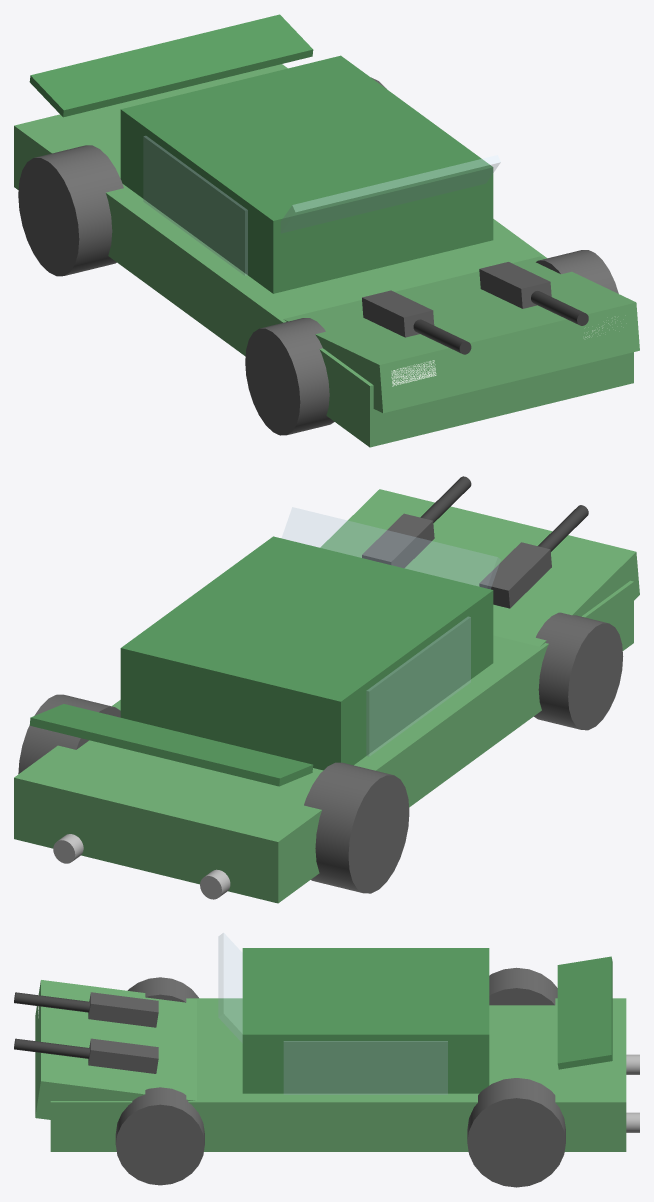
The model's file is WastelandRaiderMax.glb.
The picture shows the model from 3 angles, top to bottom: view 1: azimuth 30°, elevation 25°; view 2: azimuth 150°, elevation 25°; view 3: azimuth 270°, elevation 25°; orthographic projection. The views are drawn at different scales.
Parts seen in each view (by area): view 1: mesh_cabin_structure, mesh_chassis_core, mesh_hood_sloped, mesh_spoiler_base, mesh_wheel_rear_right, mesh_wheel_front_right, mesh_side_window_r, mesh_windshield, mesh_gun_mount_r, mesh_gun_mount_l, mesh_wheel_front_left, mesh_gun_barrel_r (+2 smaller); view 2: mesh_cabin_structure, mesh_chassis_core, mesh_hood_sloped, mesh_wheel_rear_right, mesh_wheel_front_right, mesh_spoiler_base, mesh_side_window_r, mesh_windshield, mesh_gun_mount_r, mesh_gun_mount_l, mesh_wheel_rear_left, mesh_gun_barrel_l (+3 smaller); view 3: mesh_cabin_structure, mesh_chassis_core, mesh_hood_sloped, mesh_side_window_l, mesh_wheel_rear_left, mesh_wheel_front_left, mesh_spoiler_base, mesh_wheel_rear_right, mesh_windshield, mesh_gun_mount_r, mesh_gun_mount_l, mesh_wheel_front_right (+2 smaller).
Part boxes in pixels (<box>): mesh_cabin_structure: <box>120,55,493,293</box>; mesh_chassis_core: <box>14,64,633,447</box>; mesh_hood_sloped: <box>283,256,639,413</box>; mesh_spoiler_base: <box>29,14,313,117</box>; mesh_wheel_rear_right: <box>18,145,123,276</box>; mesh_wheel_front_right: <box>245,318,334,435</box>; mesh_side_window_r: <box>143,136,247,275</box>; mesh_windshield: <box>281,155,500,233</box>; mesh_gun_mount_r: <box>362,290,434,337</box>; mesh_gun_mount_l: <box>479,262,551,308</box>; mesh_wheel_front_left: <box>536,250,618,293</box>; mesh_gun_barrel_r: <box>413,319,471,354</box>; mesh_cabin_structure: <box>120,536,493,770</box>; mesh_chassis_core: <box>14,580,633,903</box>; mesh_hood_sloped: <box>320,489,639,646</box>; mesh_wheel_rear_right: <box>304,762,409,893</box>; mesh_wheel_front_right: <box>534,612,623,730</box>; mesh_spoiler_base: <box>29,704,313,786</box>; mesh_side_window_r: <box>366,617,470,756</box>; mesh_windshield: <box>282,507,500,588</box>; mesh_gun_mount_r: <box>479,542,551,608</box>; mesh_gun_mount_l: <box>362,513,434,568</box>; mesh_wheel_rear_left: <box>18,694,120,773</box>; mesh_gun_barrel_l: <box>420,476,471,522</box>; mesh_cabin_structure: <box>242,948,489,1093</box>; mesh_chassis_core: <box>50,998,626,1151</box>; mesh_hood_sloped: <box>35,980,196,1119</box>; mesh_side_window_l: <box>284,1041,447,1094</box>; mesh_wheel_rear_left: <box>467,1078,565,1187</box>; mesh_wheel_front_left: <box>115,1087,204,1185</box>; mesh_spoiler_base: <box>557,956,612,1069</box>; mesh_wheel_rear_right: <box>489,967,557,1005</box>; mesh_windshield: <box>218,933,242,1042</box>; mesh_gun_mount_r: <box>88,992,158,1027</box>; mesh_gun_mount_l: <box>88,1038,158,1073</box>; mesh_wheel_front_right: <box>127,977,198,1002</box>.
Bounding box in the file's own units: 2.25 × 1.2 × 4.57.
